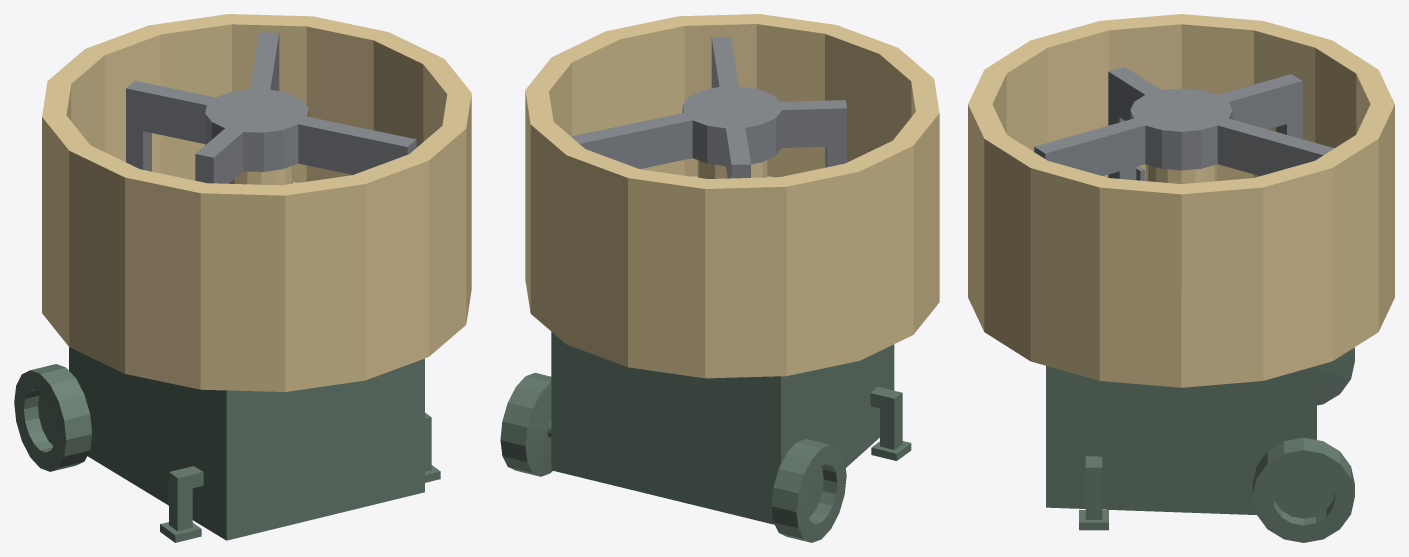
File: Betoniarka- cala.fbx
The picture shows the model from 3 angles, left to right: view 1: azimuth 30°, elevation 25°; view 2: azimuth 150°, elevation 25°; view 3: azimuth 270°, elevation 25°; orthographic projection. The views are drawn at different scales.
Parts seen in each view (by area): view 1: Zbiornik, Podstawa, Ramiona; view 2: Zbiornik, Podstawa, Ramiona; view 3: Zbiornik, Podstawa, Ramiona.
Boxes of the visible parts, bbox=[...] form: Zbiornik: bbox=[42, 14, 471, 391]; Podstawa: bbox=[14, 347, 440, 542]; Ramiona: bbox=[126, 32, 416, 183]; Zbiornik: bbox=[525, 14, 939, 378]; Podstawa: bbox=[500, 332, 911, 542]; Ramiona: bbox=[571, 36, 846, 178]; Zbiornik: bbox=[968, 14, 1394, 387]; Podstawa: bbox=[1046, 347, 1354, 542]; Ramiona: bbox=[1034, 67, 1334, 180].
Size of the model in its own units: 200 by 189 by 200.
